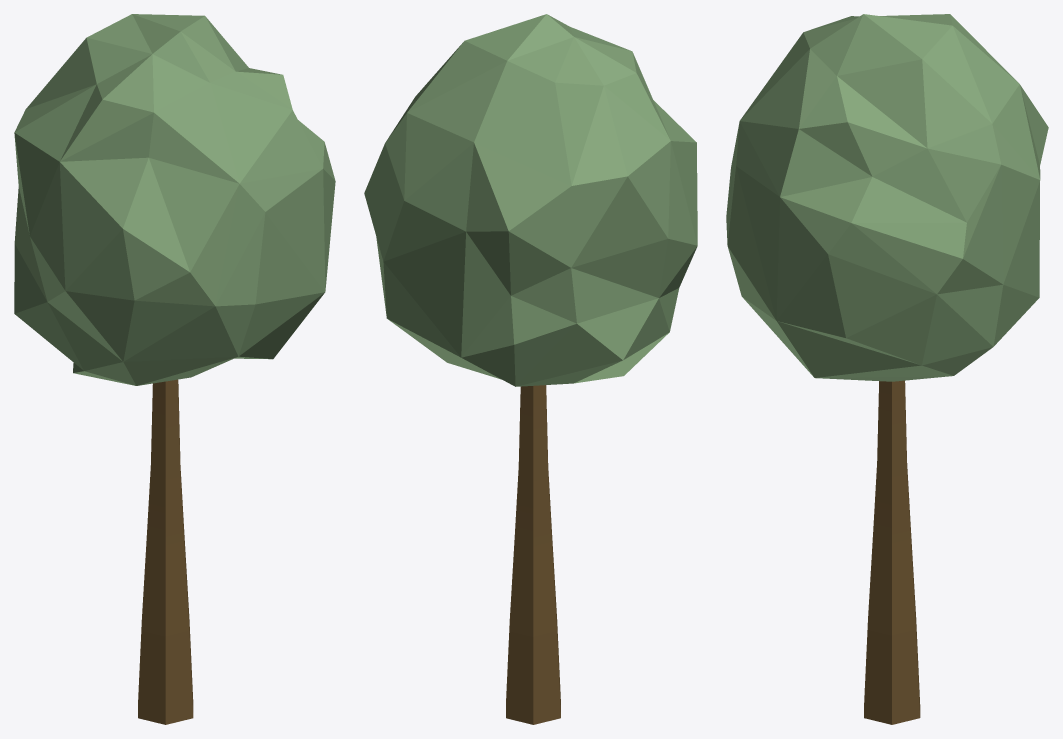
The model's file is DO NOT USE THIS.fbx.
3 renders of one model, left to right at view 1: azimuth 30°, elevation 25°; view 2: azimuth 150°, elevation 25°; view 3: azimuth 270°, elevation 25°, orthographic.
Parts seen in each view (by area): view 1: pCube1, pCylinder1; view 2: pCube1, pCylinder1; view 3: pCube1, pCylinder1.
Part boxes in pixels (x1,y1,x2,y2): pCube1: (14, 14, 335, 385); pCylinder1: (138, 379, 193, 724); pCube1: (364, 14, 697, 386); pCylinder1: (506, 385, 560, 724); pCube1: (726, 14, 1048, 381); pCylinder1: (864, 380, 920, 724).
Size of the model in its own units: 9.89 by 23.77 by 9.96.
